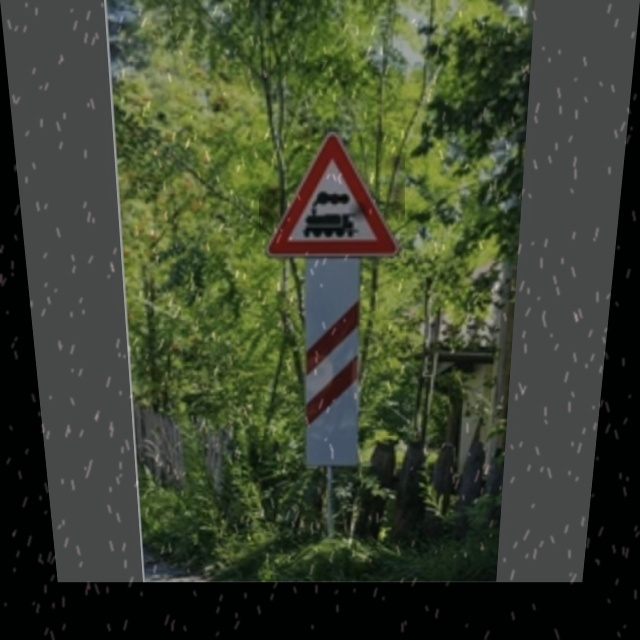Unguarded_Level_Crossing: (259, 123, 405, 261)
